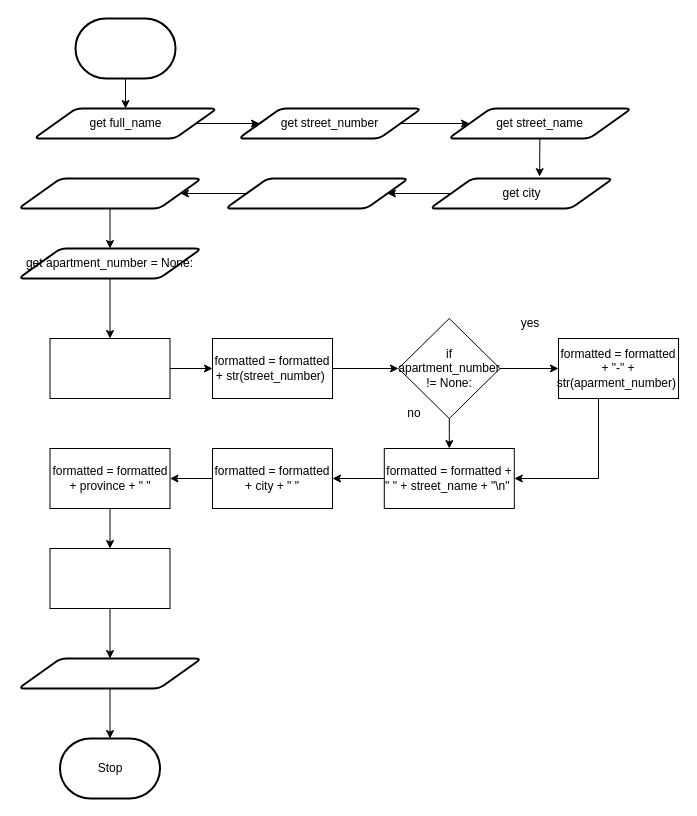
Some shapes in this 697 by 816 pixel diagram are drawn without their labels. The centre of each missing label's shape, as x and y in pixels:
formatted = formatted + postal_code: point (109, 578)
formatted = full_name + "\n": point (109, 368)
get postal_code: point (109, 193)
get province: point (316, 193)
return formatted: point (109, 673)
Start: point (125, 48)
